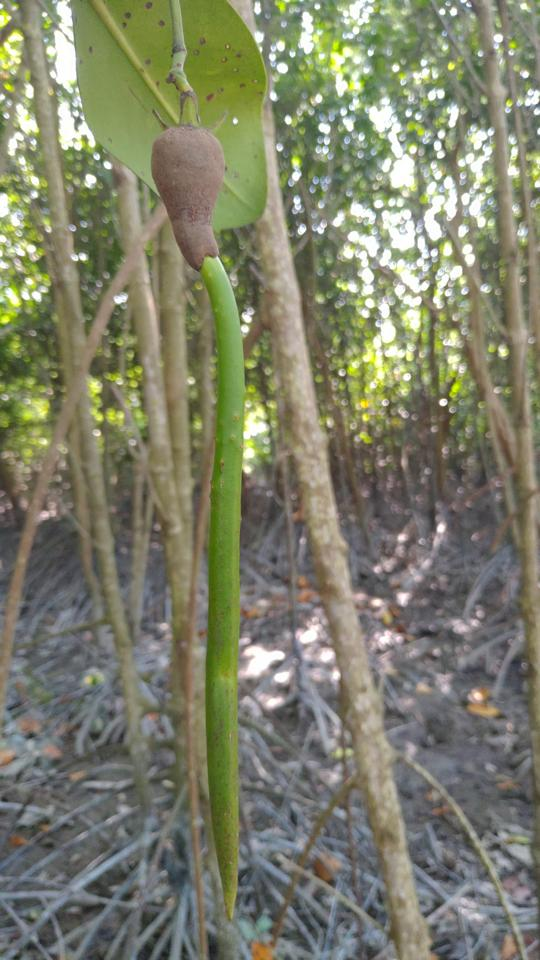mentah: (137, 103, 274, 930)
